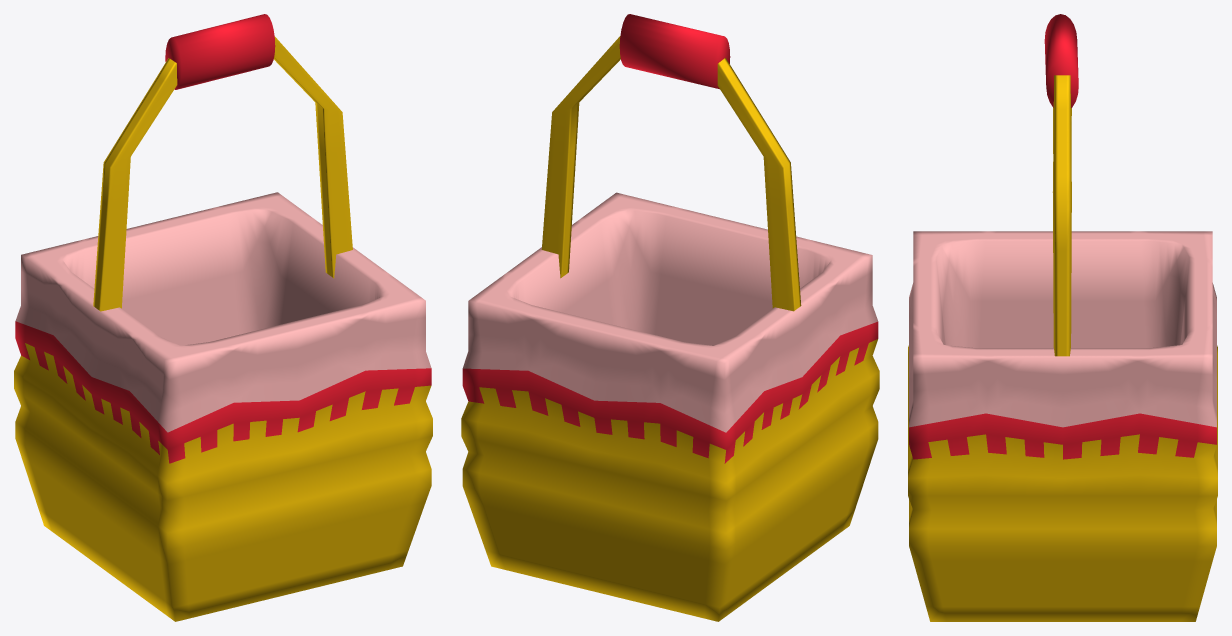
File: korzina.fbx
3 renders of one model, left to right at view 1: azimuth 30°, elevation 25°; view 2: azimuth 150°, elevation 25°; view 3: azimuth 270°, elevation 25°, orthographic.
Parts seen in each view (by area): view 1: korzina, Arch, Cylinder; view 2: korzina, Arch, Cylinder; view 3: korzina, Arch, Cylinder.
Boxes of the visible parts, x1=… form: korzina: x1=14, y1=192, x2=432, y2=621; Arch: x1=93, y1=36, x2=352, y2=311; Cylinder: x1=165, y1=14, x2=275, y2=89; korzina: x1=461, y1=192, x2=879, y2=621; Arch: x1=541, y1=36, x2=801, y2=311; Cylinder: x1=619, y1=14, x2=730, y2=89; korzina: x1=908, y1=231, x2=1217, y2=621; Arch: x1=1052, y1=75, x2=1071, y2=356; Cylinder: x1=1044, y1=14, x2=1078, y2=107.
Bounding box in the file's own units: 104 × 194 × 104.
